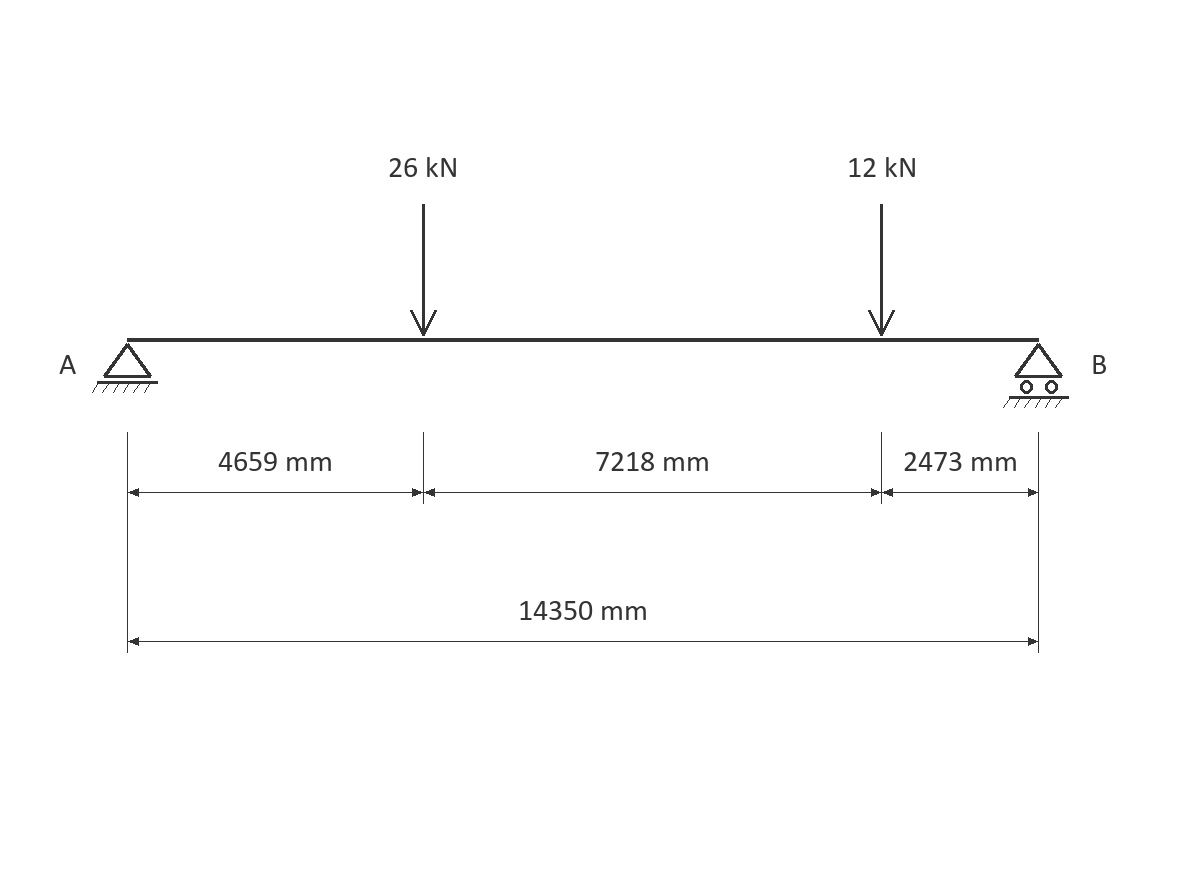pin_support: (92, 343, 158, 393)
point_load: (410, 204, 437, 336), (868, 204, 895, 336)
roller_support: (1003, 343, 1069, 408)
